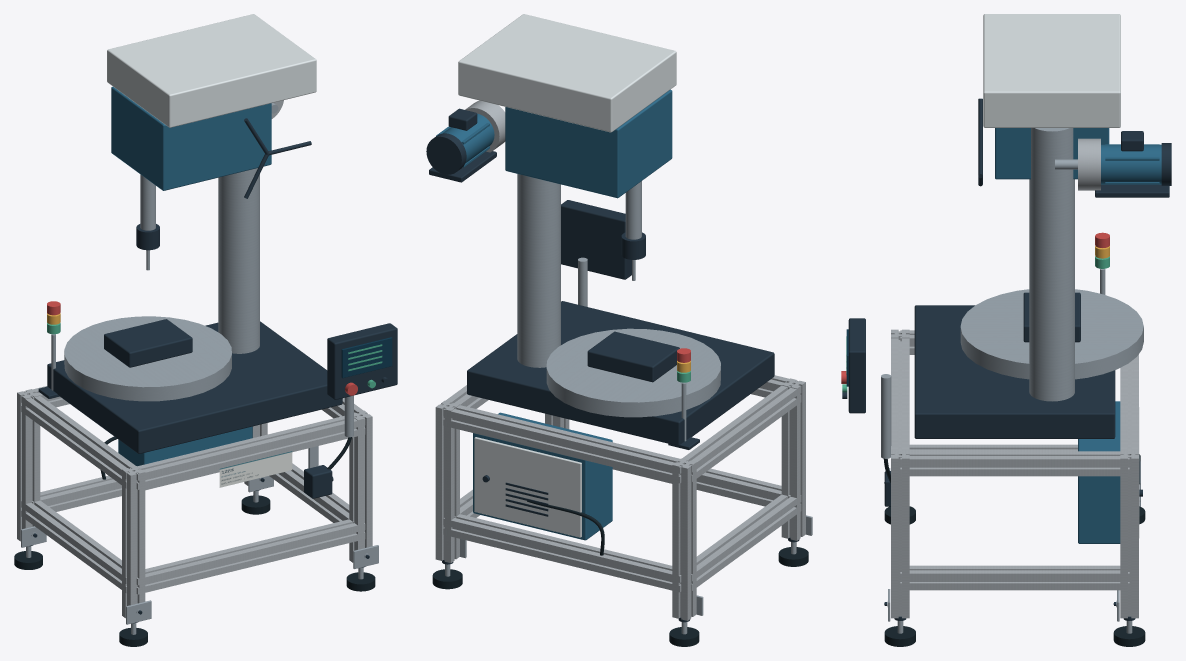
File: drill-press.glb
3 renders of one model, left to right at view 1: azimuth 30°, elevation 25°; view 2: azimuth 150°, elevation 25°; view 3: azimuth 270°, elevation 25°, orthographic. The views are drawn at different scales.
Visible parts, largest first — view 1: BeltGuard_52, DrillBase_49, DrillHeadCasting_51, DrillWorkTable_67, DrillColumn_50, Extrusion_34, Extrusion_35, Extrusion_11, Extrusion_37, WorkVice_68, Extrusion_36, PanelBack_76 (+9 smaller); view 2: BeltGuard_52, DrillBase_49, DrillHeadCasting_51, DrillWorkTable_67, DrillColumn_50, BackAccessDoor_41, Extrusion_33, Extrusion_32, PanelBack_76, Extrusion_3, Extrusion_19, Extrusion_37 (+11 smaller); view 3: BeltGuard_52, DrillBase_49, DrillColumn_50, DrillWorkTable_67, Extrusion_39, Extrusion_38, ElectricalCabinet_40, Extrusion_27, Extrusion_19, DrillHeadCasting_51, Extrusion_35, Motor_54 (+10 smaller).
Boxes of the visible parts, x1,y1,x2,y2 form: BeltGuard_52: (107, 14, 316, 127); DrillBase_49: (47, 321, 342, 453); DrillHeadCasting_51: (111, 86, 271, 190); DrillWorkTable_67: (64, 316, 231, 401); DrillColumn_50: (218, 168, 259, 353); Extrusion_34: (136, 519, 365, 594); Extrusion_35: (129, 413, 365, 489); Extrusion_11: (122, 466, 145, 618); Extrusion_37: (21, 393, 140, 488); WorkVice_68: (104, 319, 192, 367); Extrusion_36: (21, 500, 126, 593); PanelBack_76: (327, 323, 397, 399); BeltGuard_52: (458, 14, 676, 132); DrillBase_49: (467, 301, 774, 445); DrillHeadCasting_51: (505, 89, 672, 198); DrillWorkTable_67: (546, 328, 720, 417); DrillColumn_50: (517, 174, 560, 367); BackAccessDoor_41: (474, 437, 581, 537); Extrusion_33: (443, 403, 688, 483); Extrusion_32: (443, 514, 681, 592); PanelBack_76: (561, 200, 631, 279); Extrusion_3: (672, 458, 696, 620); Extrusion_19: (435, 400, 459, 562); Extrusion_37: (677, 382, 801, 481); BeltGuard_52: (983, 14, 1120, 127); DrillBase_49: (914, 305, 1115, 438); DrillColumn_50: (1029, 128, 1074, 401); DrillWorkTable_67: (960, 289, 1143, 379); Extrusion_39: (900, 451, 1129, 476); Extrusion_38: (900, 565, 1129, 590); ElectricalCabinet_40: (1078, 401, 1120, 543); Extrusion_27: (891, 450, 909, 618); Extrusion_19: (1120, 450, 1138, 618); DrillHeadCasting_51: (995, 128, 1109, 179); Extrusion_35: (891, 338, 909, 455); Motor_54: (1101, 144, 1161, 184).
Size of the model in its own units: 1.12 by 2.1 by 1.15.
11 materials, 3 textured.
